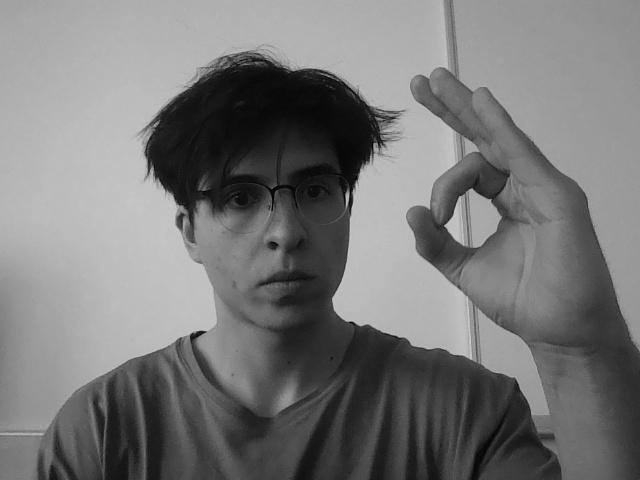OK: (407, 66, 625, 339)
